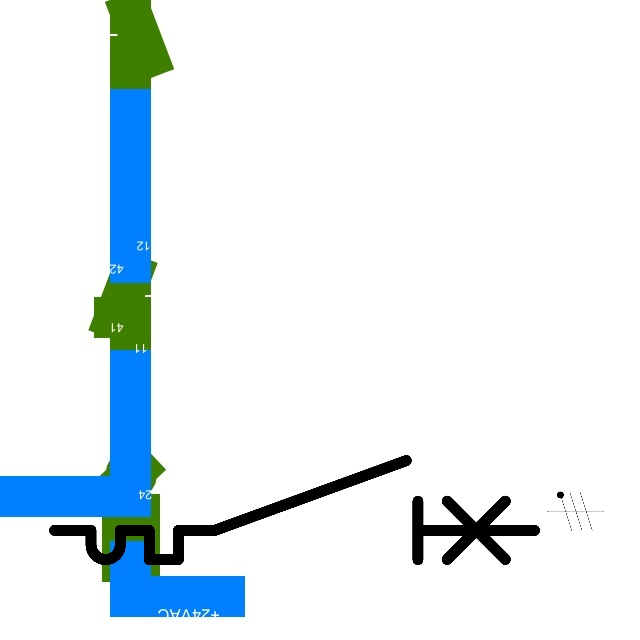interruptor_termomagnetico: (42, 448, 547, 572)
